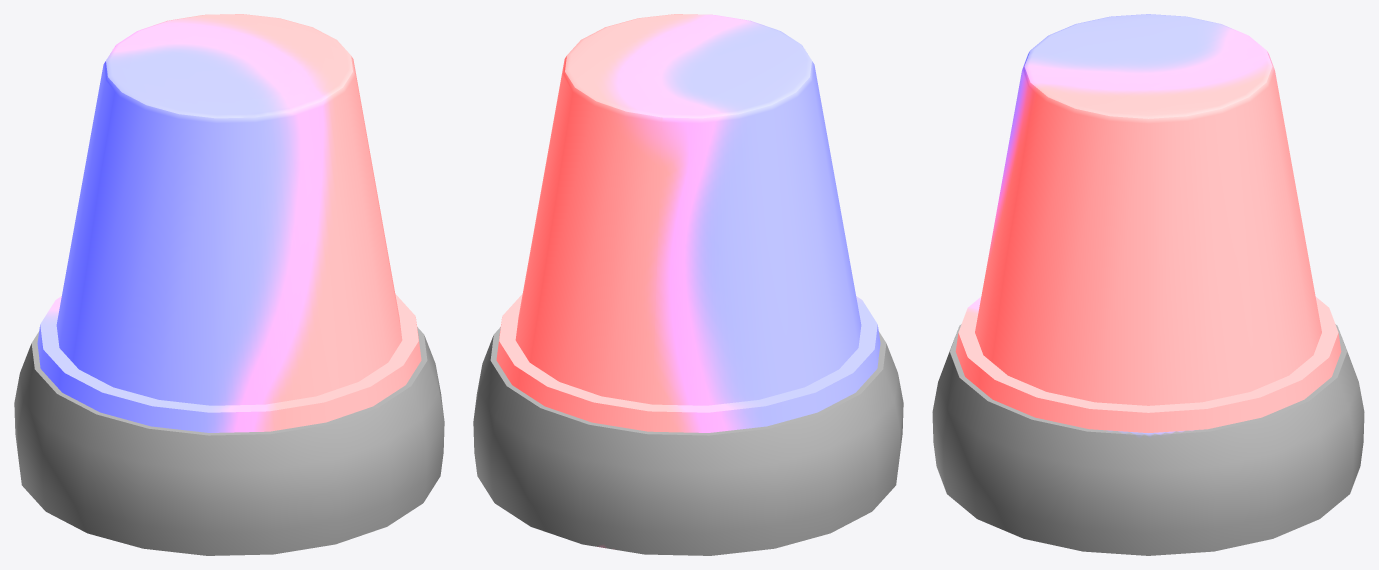
The model's file is MSH_police_siren.fbx.
The picture shows the model from 3 angles, left to right: view 1: azimuth 30°, elevation 25°; view 2: azimuth 150°, elevation 25°; view 3: azimuth 270°, elevation 25°; orthographic projection.
Parts seen in each view (by area): view 1: police_siren; view 2: police_siren; view 3: police_siren.
Part boxes in pixels (x1,y1,x2,y2): police_siren: (14, 14, 444, 555); police_siren: (473, 14, 903, 555); police_siren: (932, 14, 1364, 555).
Size of the model in its own units: 8.19 by 8.4 by 8.19.
